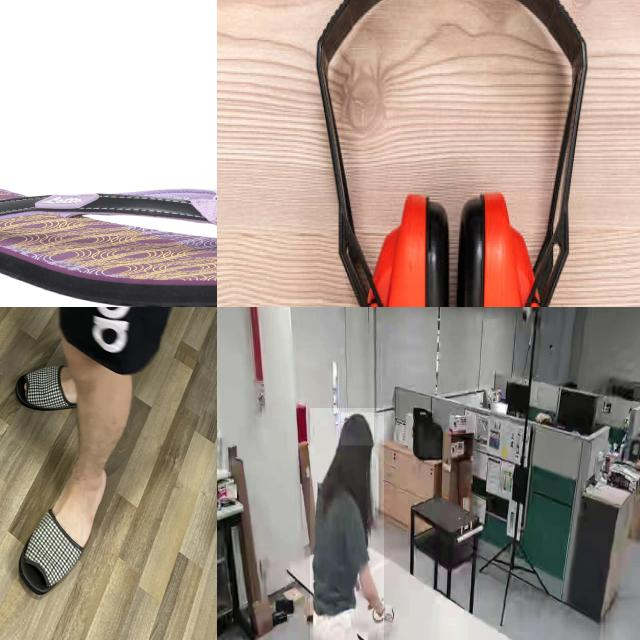Ear-protection: (288, 0, 618, 307)
Sandals: (0, 180, 217, 307), (8, 463, 122, 597), (10, 360, 100, 416)
hand_glove: (370, 592, 396, 630)
head_nohelmet: (341, 412, 375, 447)
person: (309, 408, 384, 640)
